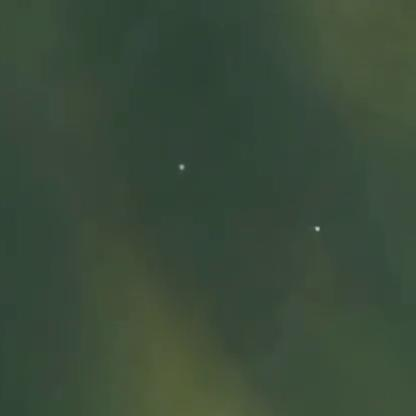golfball: (310, 223, 320, 233)
